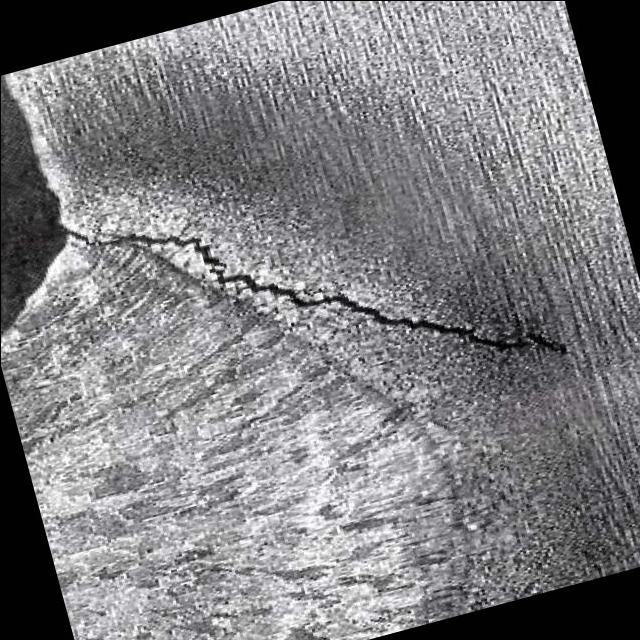defect: (66, 224, 588, 363)
